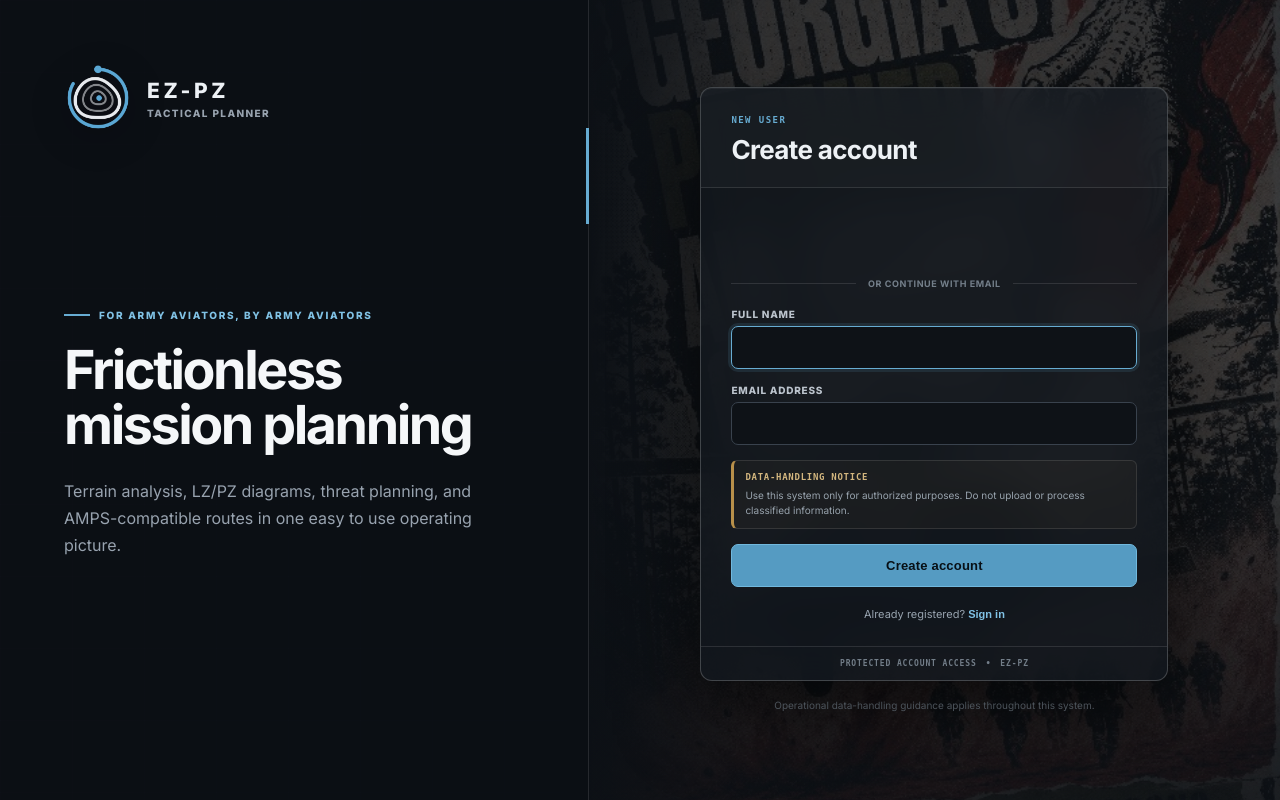
AuthScreen › starts manual registration with identity details before collecting a password
The image size is (1280, 800).
In the field labelled "Full name": (934, 347) [731,326,1137,369], type "Avery Pilot"
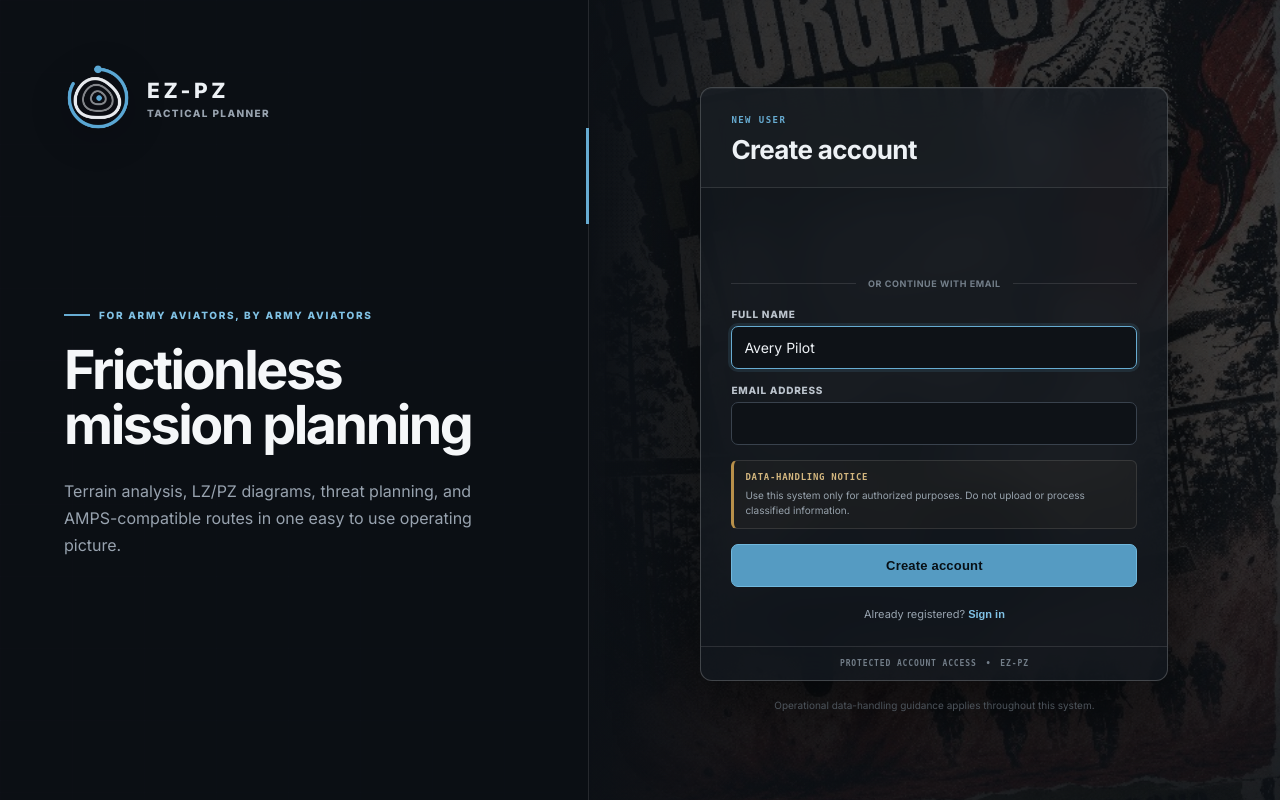
In the field labelled "Email address": (934, 423) [731,402,1137,445], type "avery@example.com"
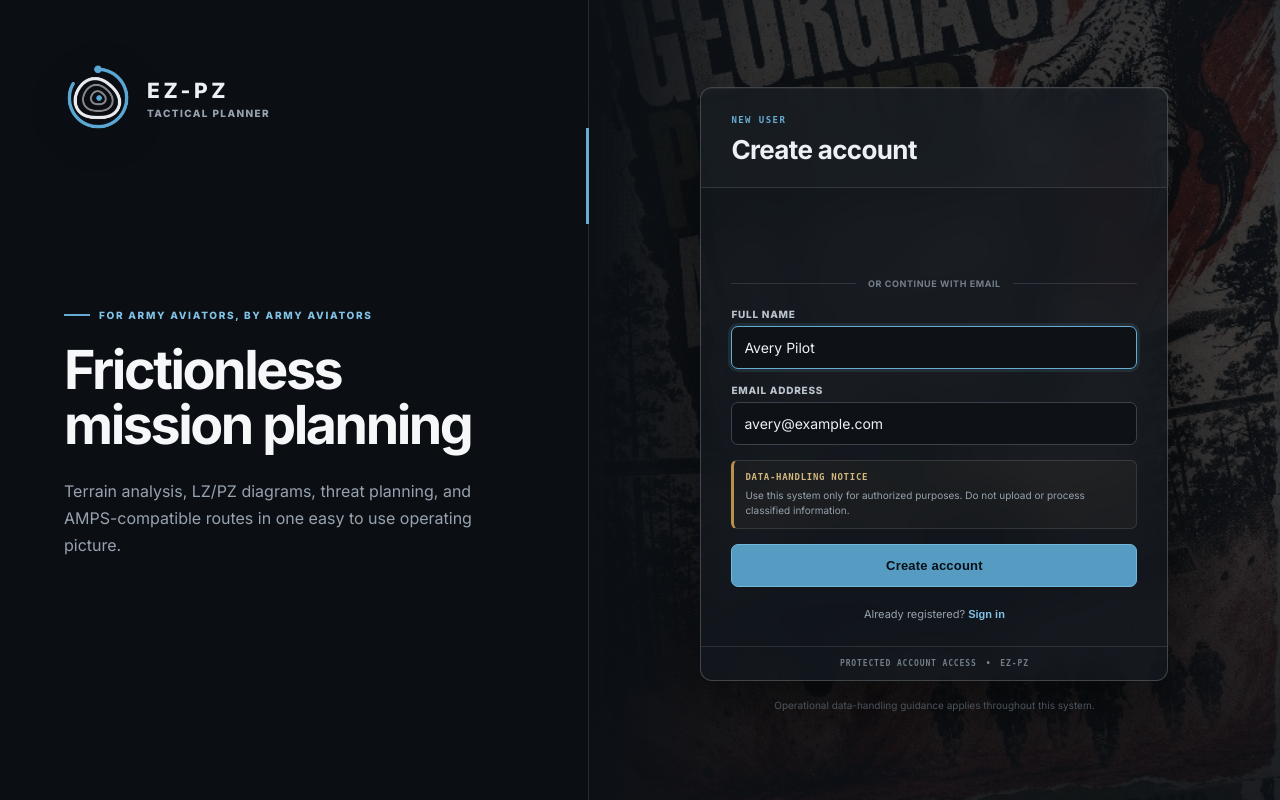
Click the button "Create account": (934, 566) [731,544,1137,587]
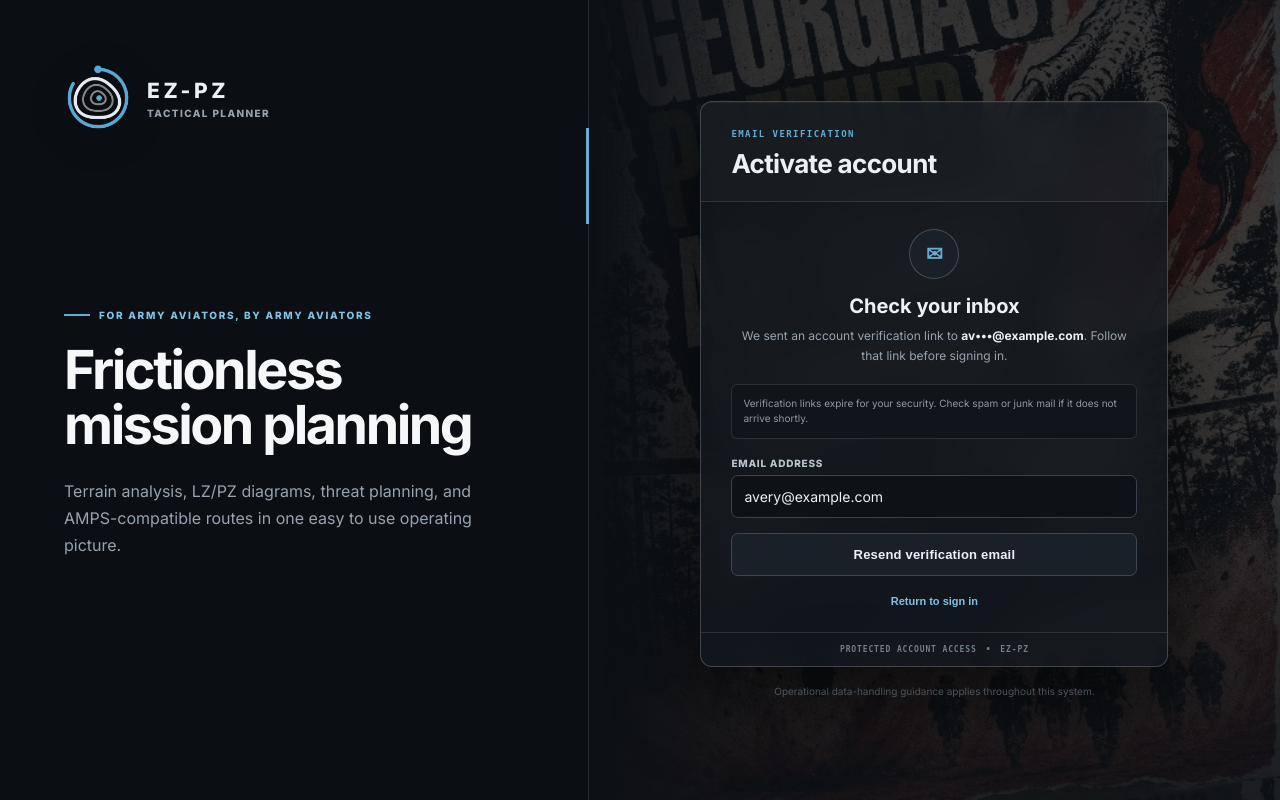
Expected: the heading "Check your inbox" is shown, [849,294,1020,318]
